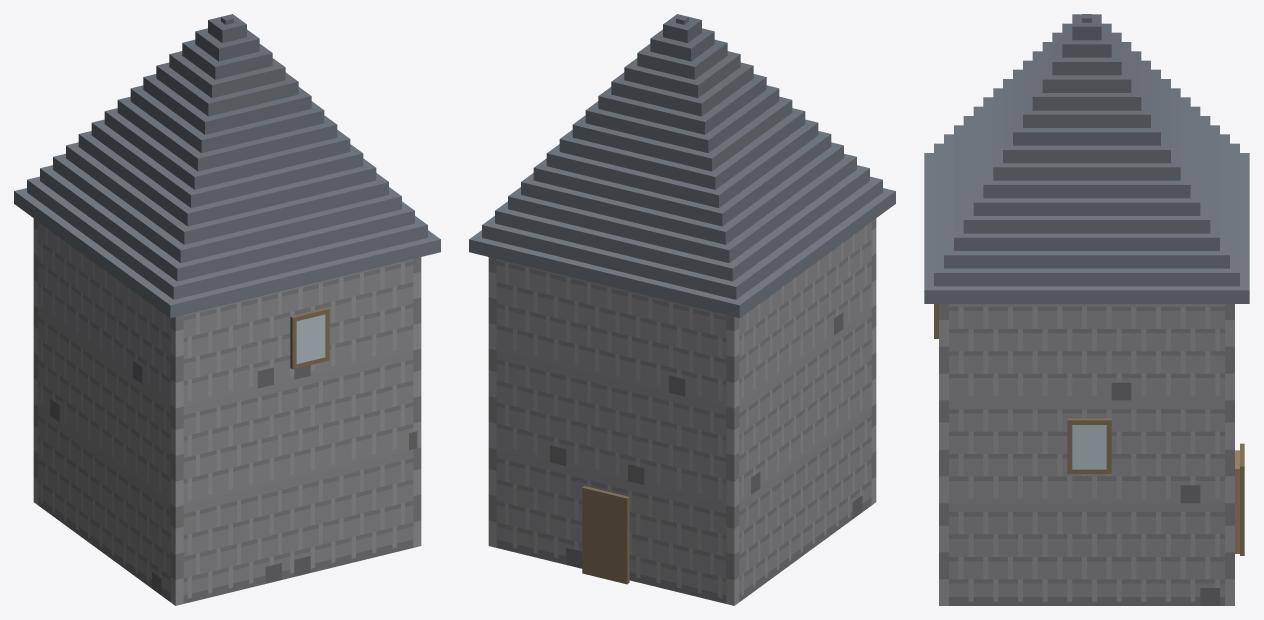
File: torre_militar_02.glb
3 renders of one model, left to right at view 1: azimuth 30°, elevation 25°; view 2: azimuth 150°, elevation 25°; view 3: azimuth 270°, elevation 25°, orthographic. The views are drawn at different scales.
Visible parts, largest first — view 1: torre_militar_02; view 2: torre_militar_02; view 3: torre_militar_02.
Boxes of the visible parts, box(x1,y1,x2,y2) form: torre_militar_02: box(14, 14, 440, 605); torre_militar_02: box(469, 14, 895, 605); torre_militar_02: box(924, 14, 1249, 605).
Bounding box in the file's own units: 6.6 × 11.8 × 6.6.
